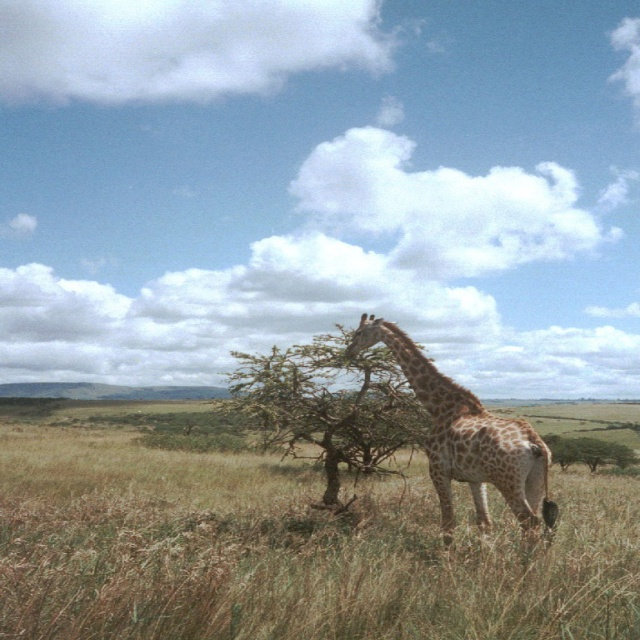Giraffe: (347, 313, 559, 565)
